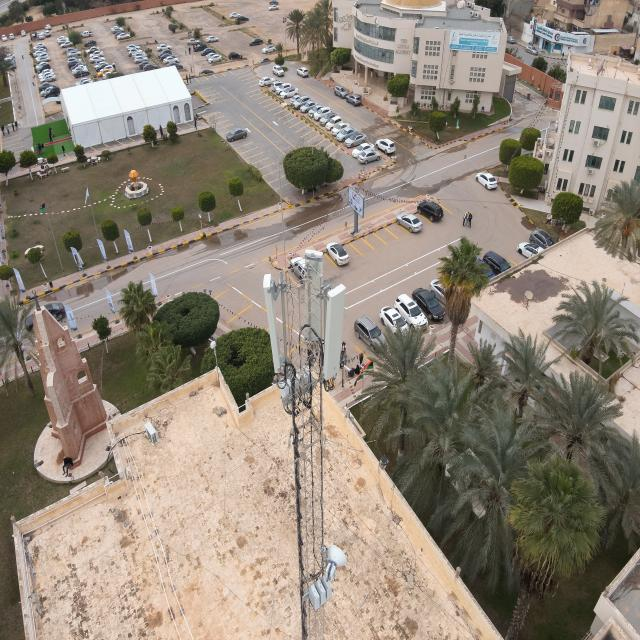antenna: (321, 277, 349, 390), (260, 266, 285, 387), (307, 248, 323, 339)
lighnig-rad: (274, 166, 290, 296)
microware-dish: (322, 538, 348, 588)
power-box: (307, 572, 337, 614)
